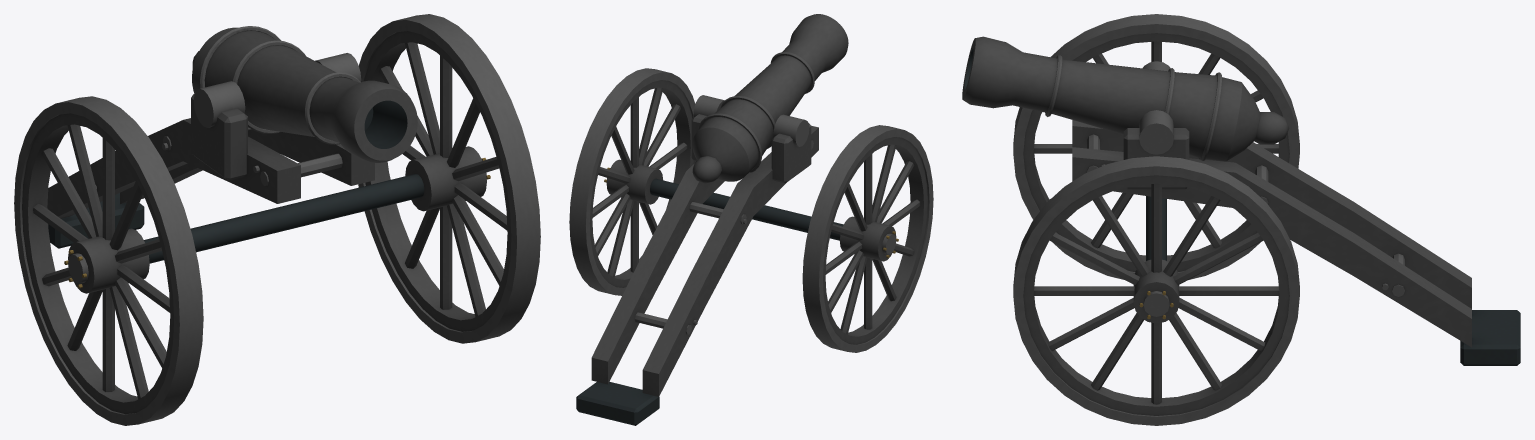
Rendered from cannon.obj.
3 views of the same model, side by side, from view 1: azimuth 30°, elevation 25°; view 2: azimuth 150°, elevation 25°; view 3: azimuth 270°, elevation 25° (orthographic). The views are drawn at different scales.
Parts seen in each view (by area): view 1: cannon_static_0, cannon_wheel_left_1, cannon_wheel_right_2; view 2: cannon_static_0, cannon_wheel_left_1, cannon_wheel_right_2; view 3: cannon_static_0, cannon_wheel_right_2, cannon_wheel_left_1.
Part boxes in pixels (x1,y1,x2,y2): cannon_static_0: [47, 26, 424, 263]; cannon_wheel_left_1: [14, 96, 203, 425]; cannon_wheel_right_2: [358, 14, 540, 343]; cannon_static_0: [576, 14, 848, 425]; cannon_wheel_left_1: [802, 125, 933, 352]; cannon_wheel_right_2: [569, 68, 695, 295]; cannon_static_0: [962, 36, 1520, 365]; cannon_wheel_right_2: [1013, 156, 1299, 425]; cannon_wheel_left_1: [1013, 14, 1299, 279].
Size of the model in its own units: 1.54 by 1.3 by 2.12.
1 material, 1 textured.
